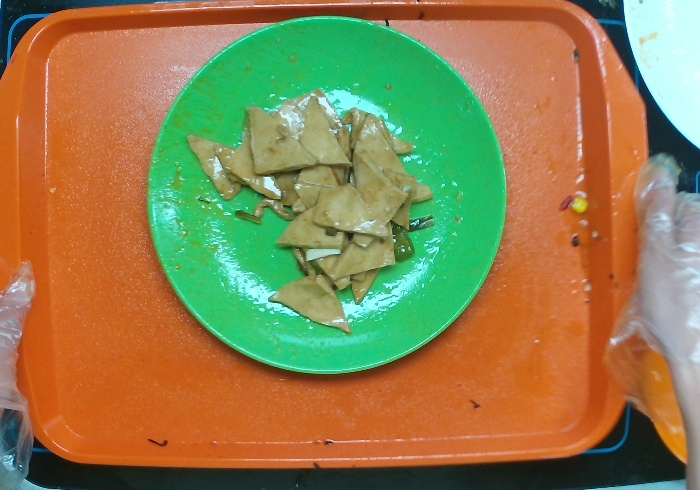HZYJPL-Lv_Se_Yuan_Pan: (139, 12, 510, 380)
